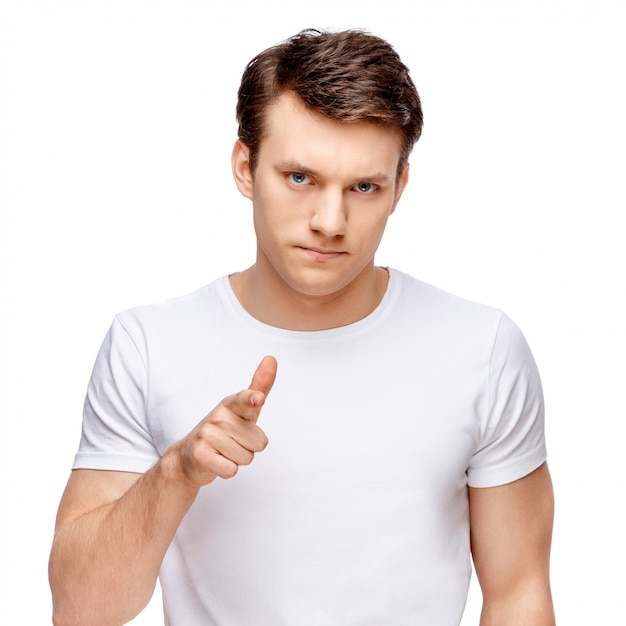young: (228, 51, 438, 292)
